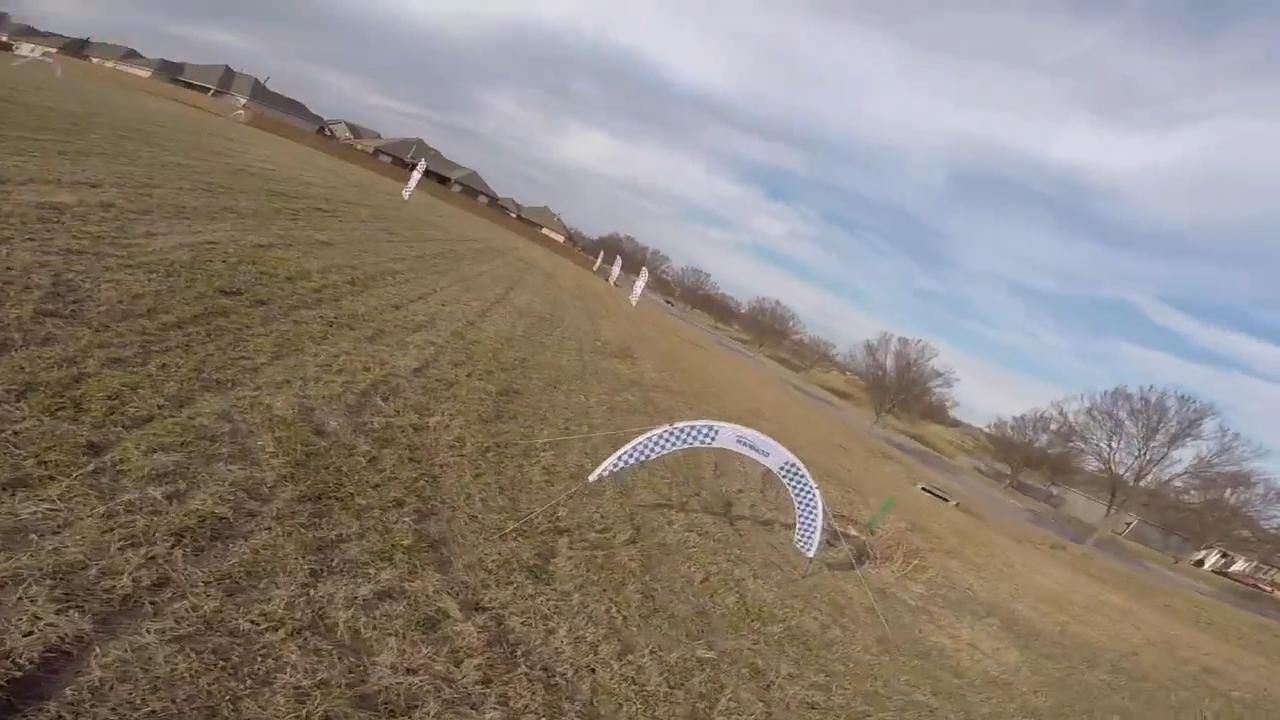gate: (587, 421, 828, 573)
